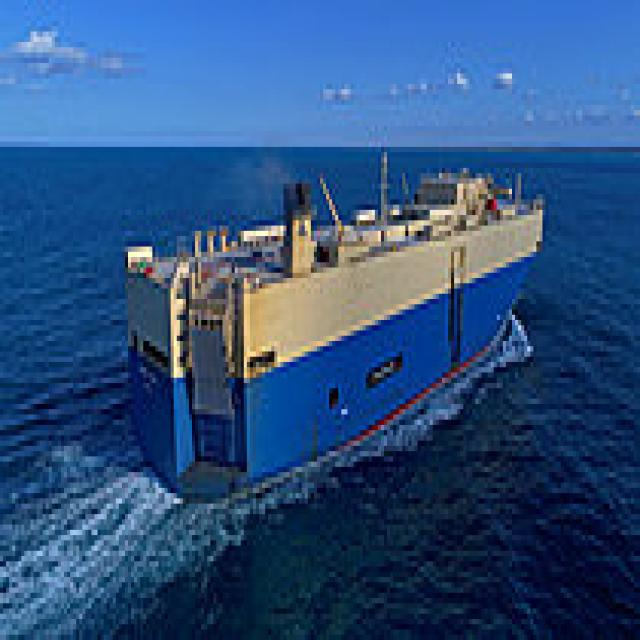Carrier: (116, 136, 542, 504)
